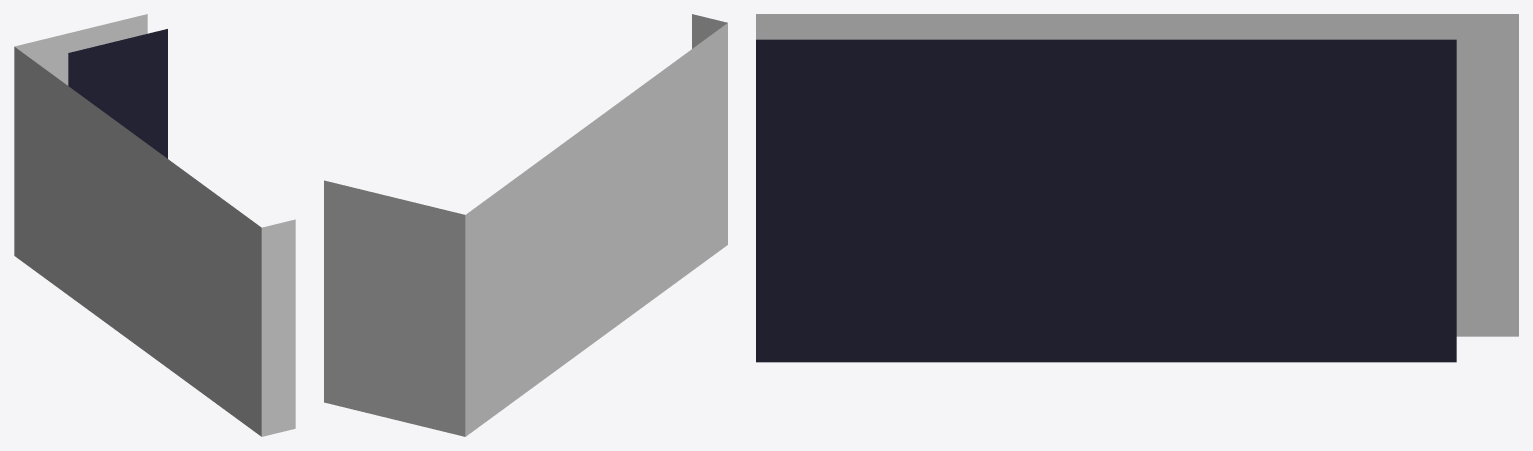
The model's file is 1.5U Wall .fbx.
The picture shows the model from 3 angles, left to right: view 1: azimuth 30°, elevation 25°; view 2: azimuth 150°, elevation 25°; view 3: azimuth 270°, elevation 25°; orthographic projection. The views are drawn at different scales.
Visible parts, largest first — view 1: 1.5U Wall; view 2: 1.5U Wall; view 3: 1.5U Wall.
Part boxes in pixels (x1,y1,x2,y2): 1.5U Wall: (14,14,295,436); 1.5U Wall: (324,14,727,436); 1.5U Wall: (756,14,1518,362).
Bounding box in the file's own units: 249 × 373 × 799.
